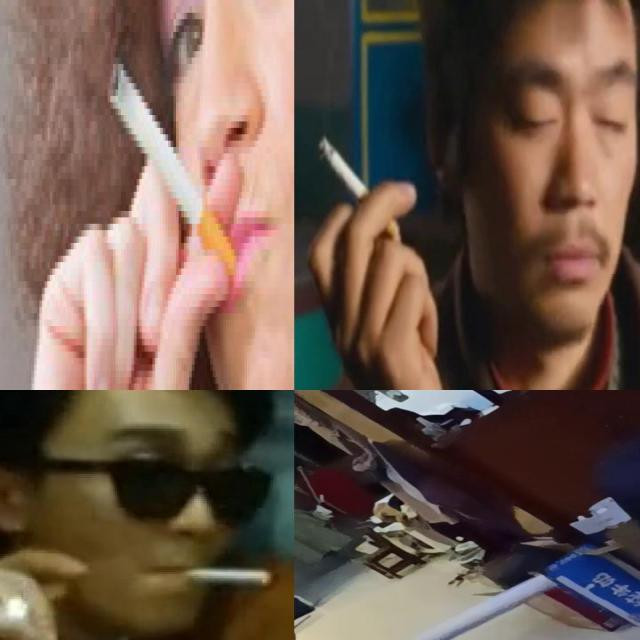smoking: (106, 58, 237, 286), (360, 572, 564, 640), (316, 134, 396, 238), (182, 565, 278, 585)
